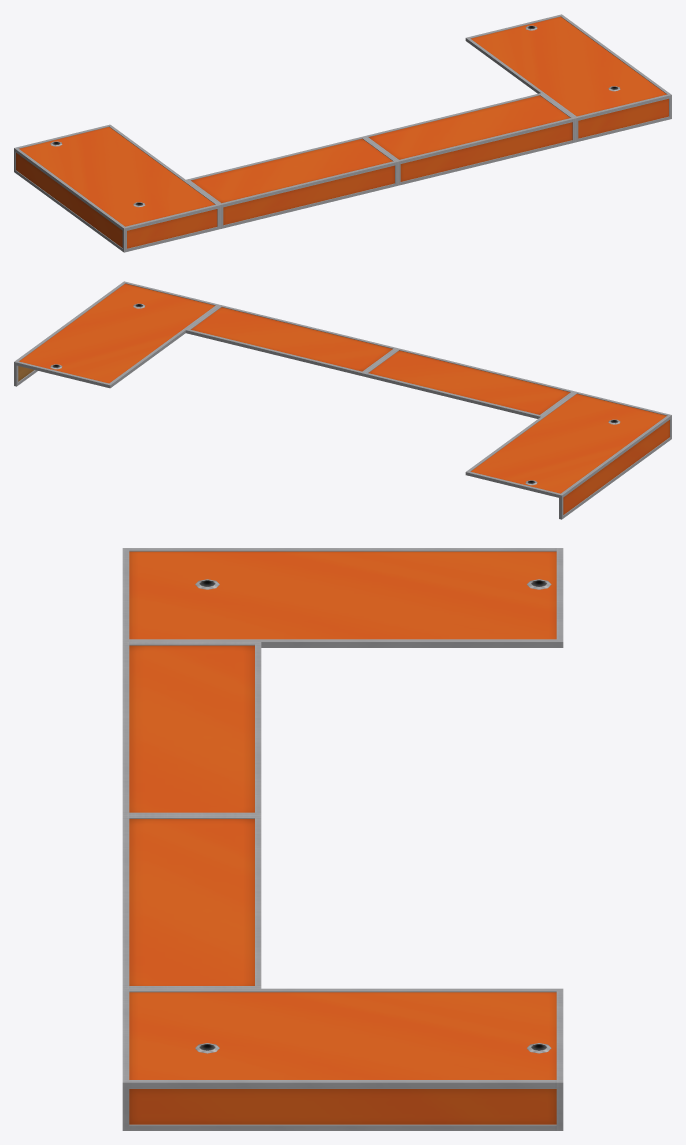
File: jsf_4P_s03_c01_t04_DX.fbx
3 renders of one model, top to bottom at view 1: azimuth 30°, elevation 25°; view 2: azimuth 150°, elevation 25°; view 3: azimuth 270°, elevation 25°, orthographic. The views are drawn at different scales.
Visible parts, largest first — view 1: jsf_4P_s03_c01_t04_DX; view 2: jsf_4P_s03_c01_t04_DX; view 3: jsf_4P_s03_c01_t04_DX.
Part boxes in pixels (x1,y1,x2,y2): jsf_4P_s03_c01_t04_DX: (14,14,671,252); jsf_4P_s03_c01_t04_DX: (14,281,671,519); jsf_4P_s03_c01_t04_DX: (122,548,563,1130).
Bounding box in the file's own units: 298 × 12.99 × 104.
